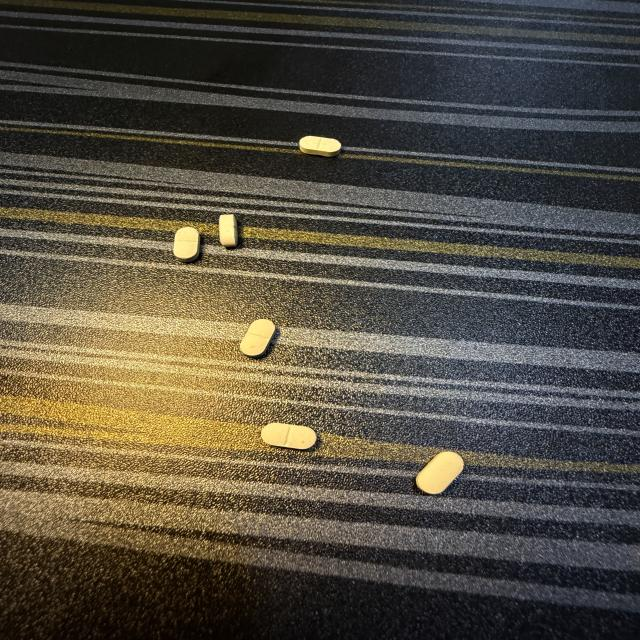pill: (416, 452, 463, 493), (261, 423, 316, 449), (240, 319, 275, 357), (174, 227, 200, 262), (300, 136, 341, 156), (219, 214, 238, 248)
